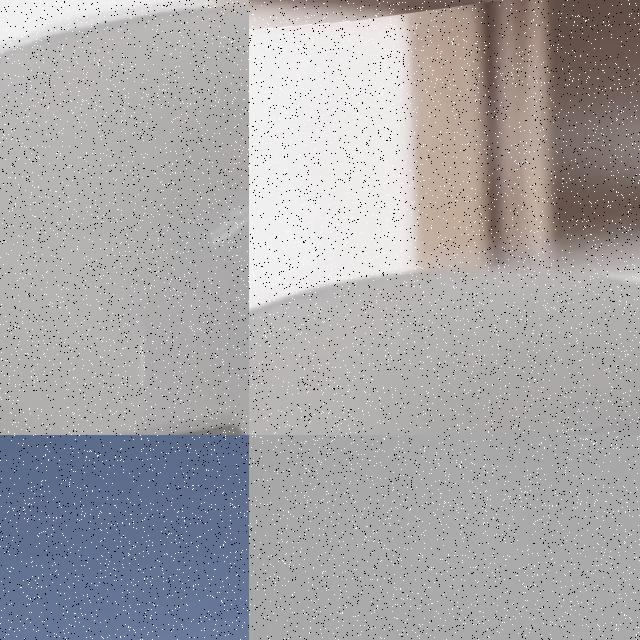drone: (249, 0, 640, 435), (0, 0, 249, 435)
